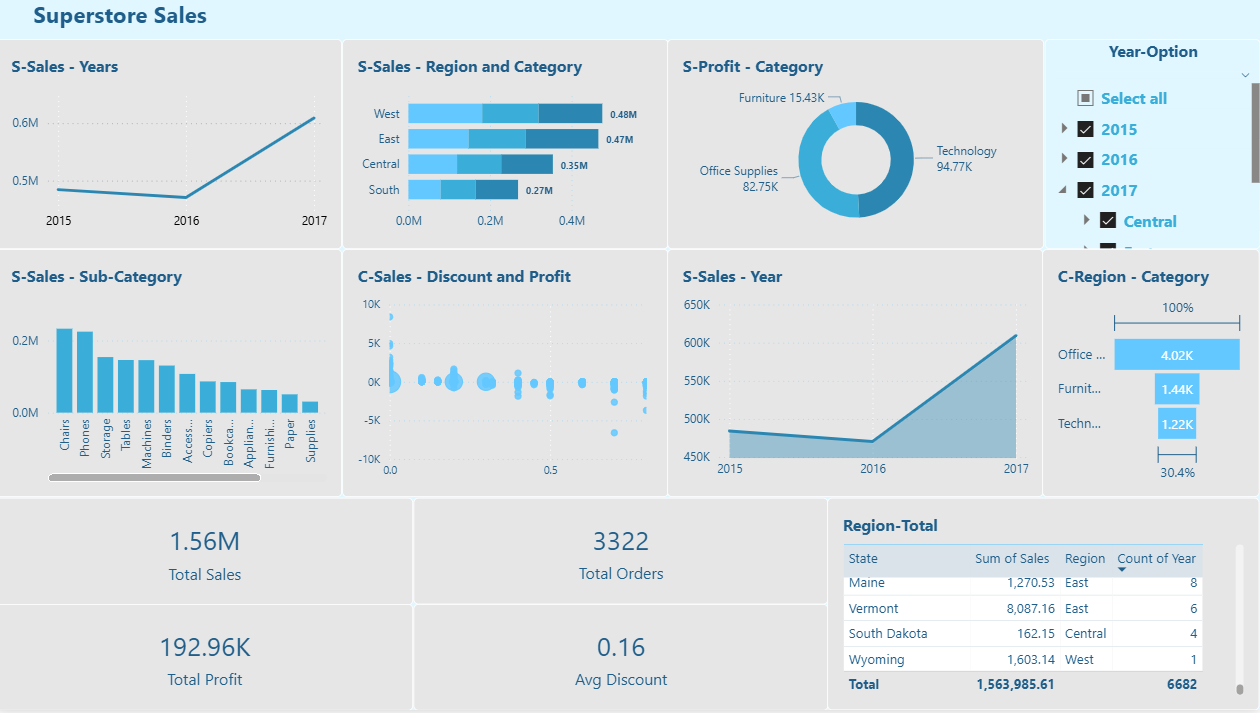

What the dashboard file says about the page in this screenshot:
{"tool":"powerbi","page":{"name":"Page 1","canvas":[1280,720],"ordinal":0},"visuals":[{"type":"lineChart","title":"S-Sales - Years","fields":{"Category":["Superstore_Cleaned.Order Date.Variation.Date Hierarchy.Year","Superstore_Cleaned.Order Date.Variation.Date Hierarchy.Month"],"Y":["Sum(Superstore_Cleaned.Sales)"]},"box":[0,40,350,212.9],"z":0},{"type":"barChart","title":"S-Sales - Region and Category","fields":{"Category":["Superstore_Cleaned.Region"],"Series":["Superstore_Cleaned.Category"],"Y":["Sum(Superstore_Cleaned.Sales)"]},"box":[350,40,330,212.9],"z":1000},{"type":"donutChart","title":"S-Profit - Category","fields":{"Category":["Superstore_Cleaned.Category"],"Y":["Sum(Superstore_Cleaned.Profit)"]},"box":[680,40,381.4,212.9],"z":2000},{"type":"columnChart","title":"S-Sales - Sub-Category","fields":{"Category":["Superstore_Cleaned.Sub-Category"],"Y":["Sum(Superstore_Cleaned.Sales)"]},"box":[0,253.3,350,251.1],"z":3000},{"type":"scatterChart","title":"C-Sales - Discount and Profit","fields":{"X":["Superstore_Cleaned.Discount"],"Y":["Superstore_Cleaned.Profit"],"Size":["Count(Superstore_Cleaned.Sales)"]},"box":[350,253.3,330,251.1],"z":4000},{"type":"areaChart","title":"S-Sales - Year","fields":{"Category":["Superstore_Cleaned.Order Date.Variation.Date Hierarchy.Year"],"Y":["Sum(Superstore_Cleaned.Sales)"]},"box":[680,253.3,381.1,251.1],"z":5000},{"type":"slicer","title":"Year-Option","fields":{"Values":["Superstore_Cleaned.Year","Superstore_Cleaned.Region","Superstore_Cleaned.Category","Superstore_Cleaned.Segment"]},"box":[1061.4,40,218.6,212.9],"z":6000},{"type":"card","fields":{"Values":["Superstore_Cleaned.Total Sales"]},"box":[0,504.4,422.2,108.9],"z":7000},{"type":"card","fields":{"Values":["Superstore_Cleaned.Total Profit"]},"box":[0,612.2,422.2,107.8],"z":8000},{"type":"card","fields":{"Values":["Superstore_Cleaned.Total Orders"]},"box":[422.2,504.4,420,107.8],"z":9000},{"type":"card","fields":{"Values":["Superstore_Cleaned.Avg Discount"]},"box":[422.2,612.2,420,107.8],"z":10000},{"type":"tableEx","title":"Region-Total","fields":{"Values":["Superstore_Cleaned.State","Sum(Superstore_Cleaned.Sales)","Superstore_Cleaned.Region","CountNonNull(Superstore_Cleaned.Year)"]},"box":[842.2,504.4,437.8,215.6],"z":11000},{"type":"actionButton","title":"Superstore Sales","box":[38.6,0,275.7,40],"z":12000},{"type":"funnel","title":"C-Region - Category","fields":{"Category":["Superstore_Cleaned.Category"],"Y":["CountNonNull(Superstore_Cleaned.Region)"]},"box":[1060,252.9,220,251.4],"z":13001}]}

Visuals, with their boxes in screenshot pixels (x1, y1, x2, y2), scaled from the page's 1280x720 canvas onto the 1260x713 screenshot:
"S-Sales - Years" lineChart: 0/40/345/250
"S-Sales - Region and Category" barChart: 345/40/669/250
"S-Profit - Category" donutChart: 669/40/1045/250
"S-Sales - Sub-Category" columnChart: 0/251/345/499
"C-Sales - Discount and Profit" scatterChart: 345/251/669/499
"S-Sales - Year" areaChart: 669/251/1045/499
"Year-Option" slicer: 1045/40/1259/250
card - Superstore_Cleaned.Total Sales: 0/499/416/607
card - Superstore_Cleaned.Total Profit: 0/606/416/712
card - Superstore_Cleaned.Total Orders: 416/499/829/606
card - Superstore_Cleaned.Avg Discount: 416/606/829/712
"Region-Total" tableEx: 829/499/1259/712
"Superstore Sales" actionButton: 38/0/309/40
"C-Region - Category" funnel: 1043/250/1259/499
